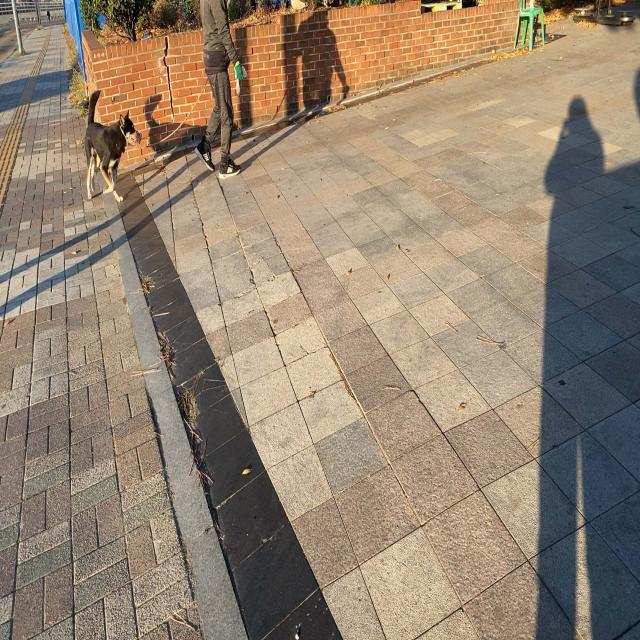Leashed_Dog: (84, 66, 221, 202)
